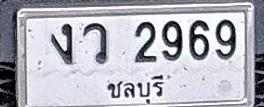2: (134, 21, 156, 62)
6: (189, 19, 209, 60)
9: (161, 20, 182, 61), (215, 19, 236, 59)
A07: (50, 23, 73, 64)
A37: (82, 22, 108, 64)
CBI: (104, 73, 171, 107)
